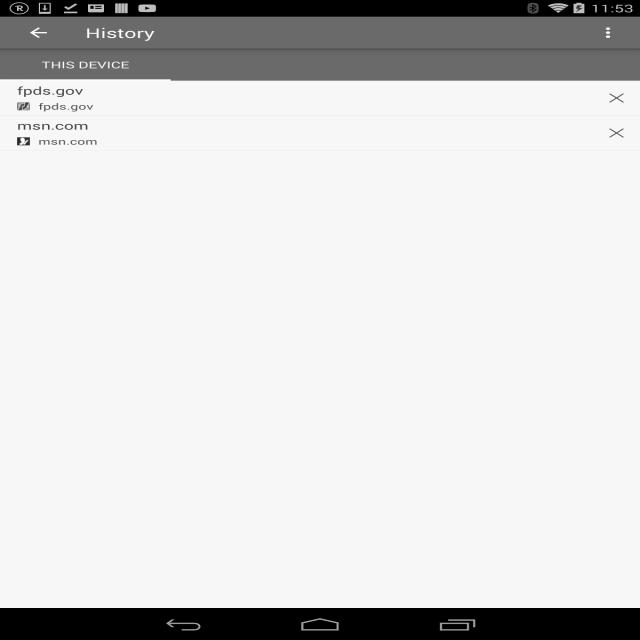Button: (593, 83, 640, 113), (593, 118, 640, 148)
ImageButton: (9, 16, 68, 48)
ImageView: (589, 16, 631, 48), (17, 102, 30, 110), (17, 138, 30, 146)
TextView: (17, 83, 585, 98), (17, 118, 585, 133), (38, 100, 584, 112), (38, 136, 584, 148), (85, 24, 155, 42), (42, 58, 129, 71)
